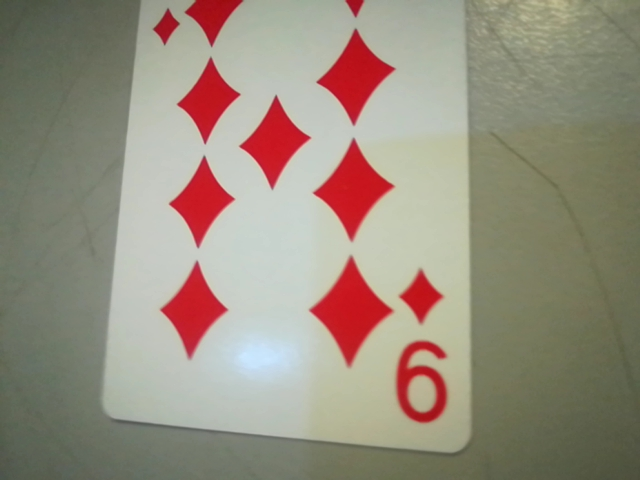fk 9: (385, 257, 466, 439)
